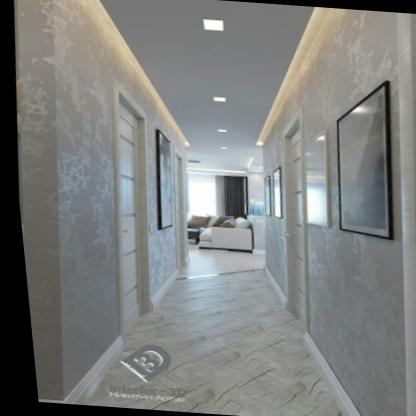Wooden floor: (51, 248, 335, 416)
